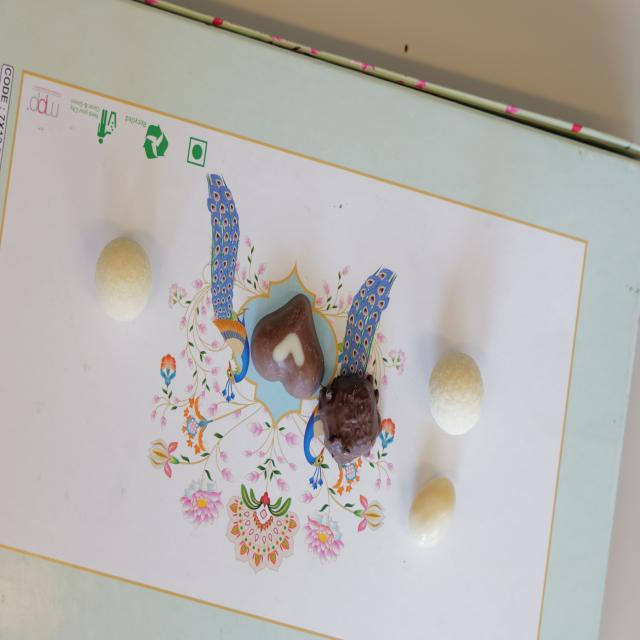Comtesse: (95, 236, 152, 322), (430, 349, 484, 435)
Jelly_White: (410, 480, 457, 548)
Passion_au_lait: (251, 293, 325, 399)
Tentation_noir: (319, 372, 381, 467)
